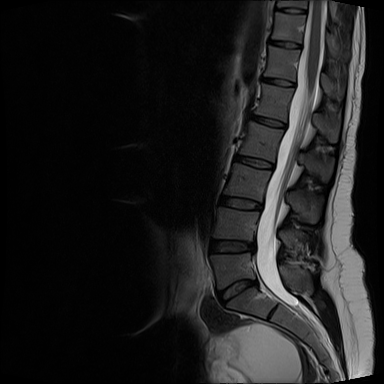Lumbar Disc Bulge (LDB): (209, 268, 265, 310), (200, 231, 260, 261)
Normal IVD: (215, 187, 265, 216), (246, 109, 289, 134), (233, 149, 277, 173), (256, 71, 297, 91), (266, 35, 304, 52), (273, 5, 309, 16)
